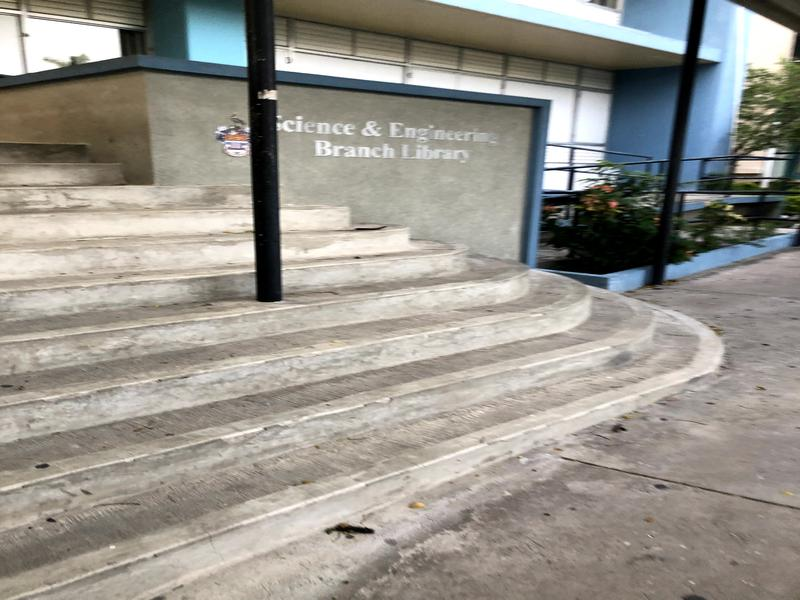18.0053644_-76.7493880_librarysign: (270, 113, 512, 167)
